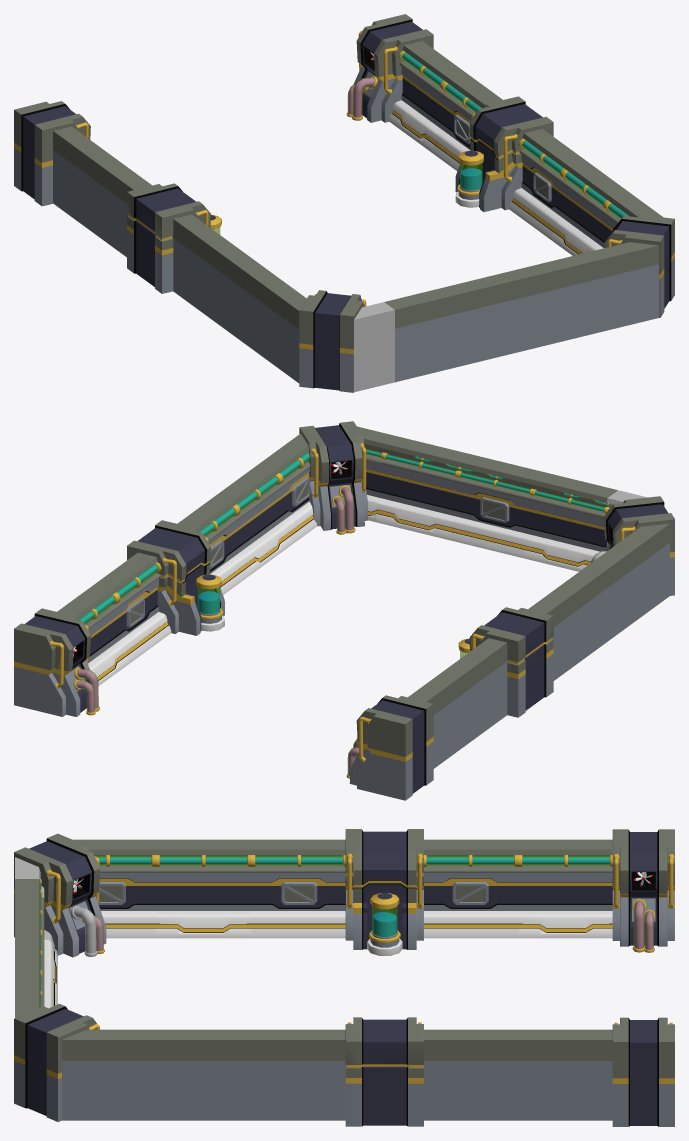
Rendered from Level10.fbx.
3 views of the same model, one above another, from view 1: azimuth 30°, elevation 25°; view 2: azimuth 150°, elevation 25°; view 3: azimuth 270°, elevation 25° (orthographic). The views are drawn at different scales.
Parts seen in each view (by area): view 1: Base (×15), Base7, Base6, Base10, Base9, Base11, Base8, Bottle, Pipe1; view 2: Base (×15), Base7, Base6, Base8, Base10, Base9, Bottle, Cage; view 3: Base (×15), Base10, Base8, Pipe1 (×6), Cage (×3), Base6, Bottle, Base7, Pipe12, Base11.
Part boxes in pixels (left/top/right/bottom): Base (×15): left=14, top=14, right=662, bottom=383; Base7: left=533, top=247, right=618, bottom=345; Base6: left=384, top=284, right=469, bottom=382; Base10: left=299, top=290, right=366, bottom=392; Base9: left=608, top=242, right=658, bottom=327; Base11: left=354, top=302, right=394, bottom=392; Base8: left=604, top=214, right=674, bottom=317; Bottle: left=455, top=150, right=483, bottom=207; Pipe1: left=351, top=76, right=377, bottom=120; Base (×15): left=14, top=433, right=669, bottom=800; Base7: left=375, top=436, right=468, bottom=540; Base6: left=524, top=472, right=617, bottom=571; Base8: left=299, top=421, right=367, bottom=530; Base10: left=604, top=496, right=674, bottom=595; Base9: left=357, top=426, right=394, bottom=521; Bottle: left=196, top=574, right=224, bottom=631; Cage: left=480, top=497, right=509, bottom=522; Base (×15): left=15, top=829, right=674, bottom=1126; Base10: left=14, top=833, right=106, bottom=957; Base8: left=14, top=1004, right=99, bottom=1121; Pipe1 (×6): left=95, top=855, right=646, bottom=952; Cage (×3): left=98, top=882, right=488, bottom=904; Base6: left=15, top=879, right=57, bottom=997; Bottle: left=367, top=893, right=402, bottom=955; Base7: left=15, top=960, right=44, bottom=1006; Pipe12: left=71, top=905, right=97, bottom=956; Base11: left=15, top=857, right=57, bottom=957.
Size of the model in its own units: 385 by 73.12 by 507.
